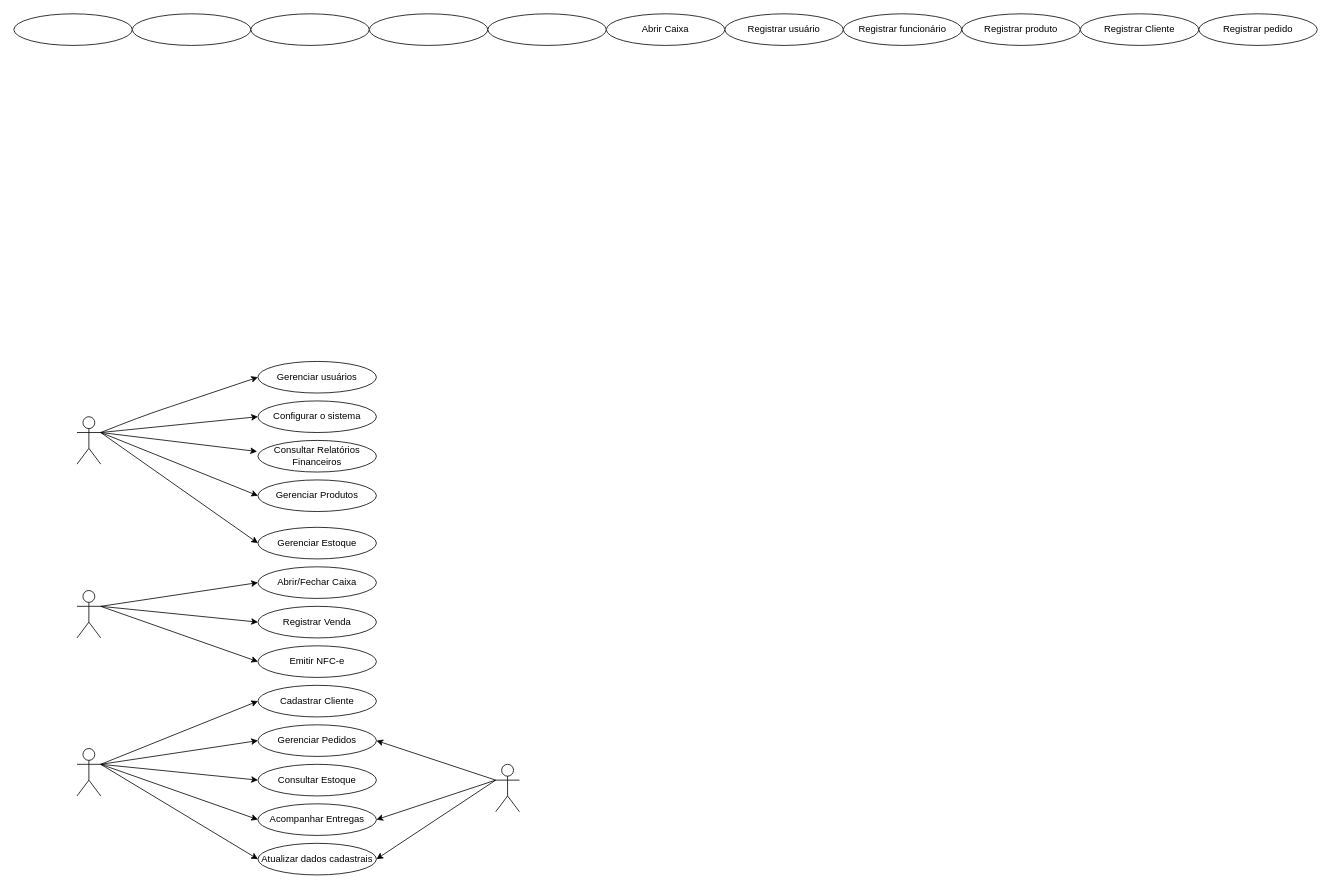
The diagram is 1331 pixels wide and 889 high, and some of its shapes have lost their labels. Here are the shapes that lost their labels. From the top down, the centre of each, then its label:
pixel 88 440: Master
pixel 88 614: Caixa
pixel 88 772: Operador
pixel 507 788: Cliente
